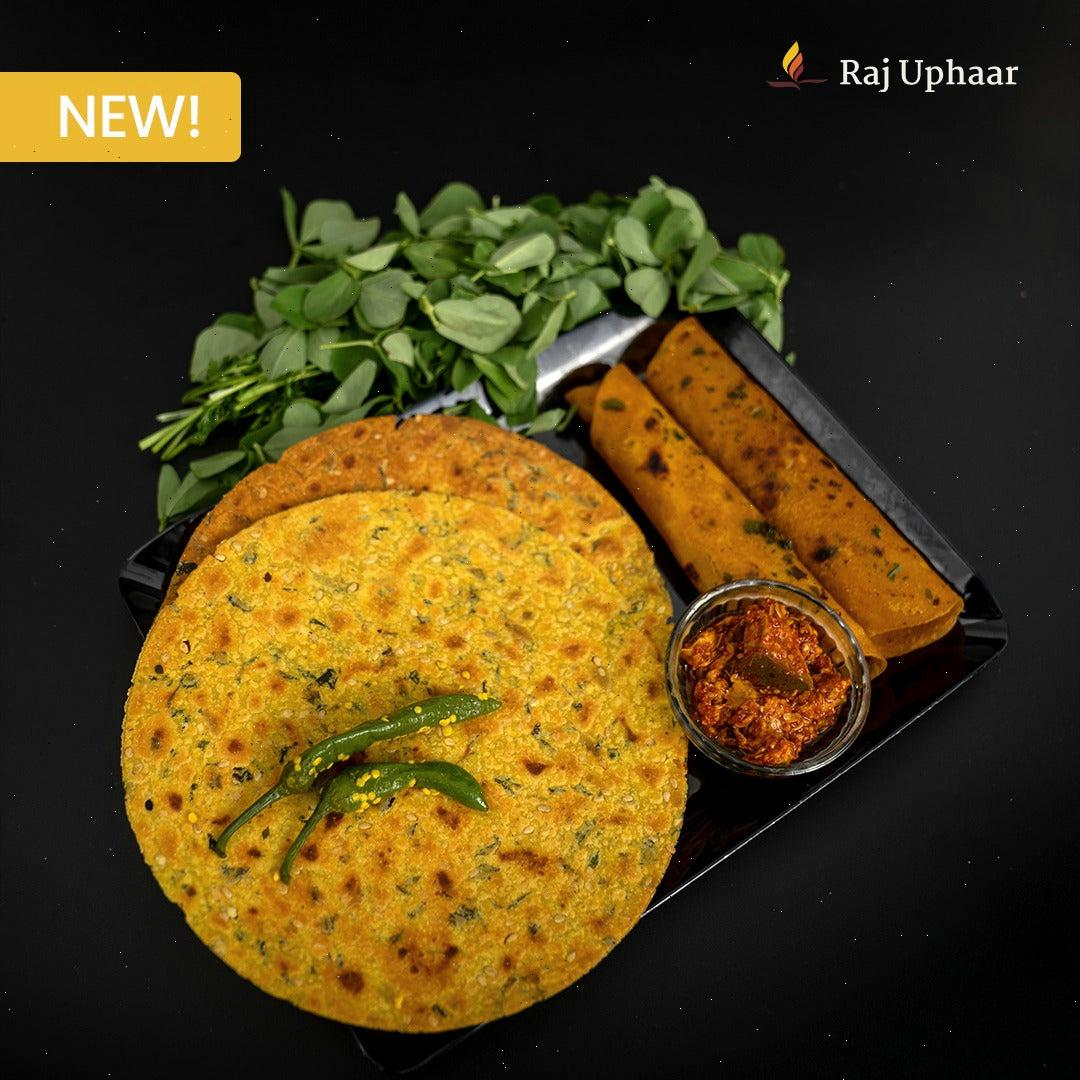thepla: (158, 454, 612, 994), (468, 334, 945, 680)
